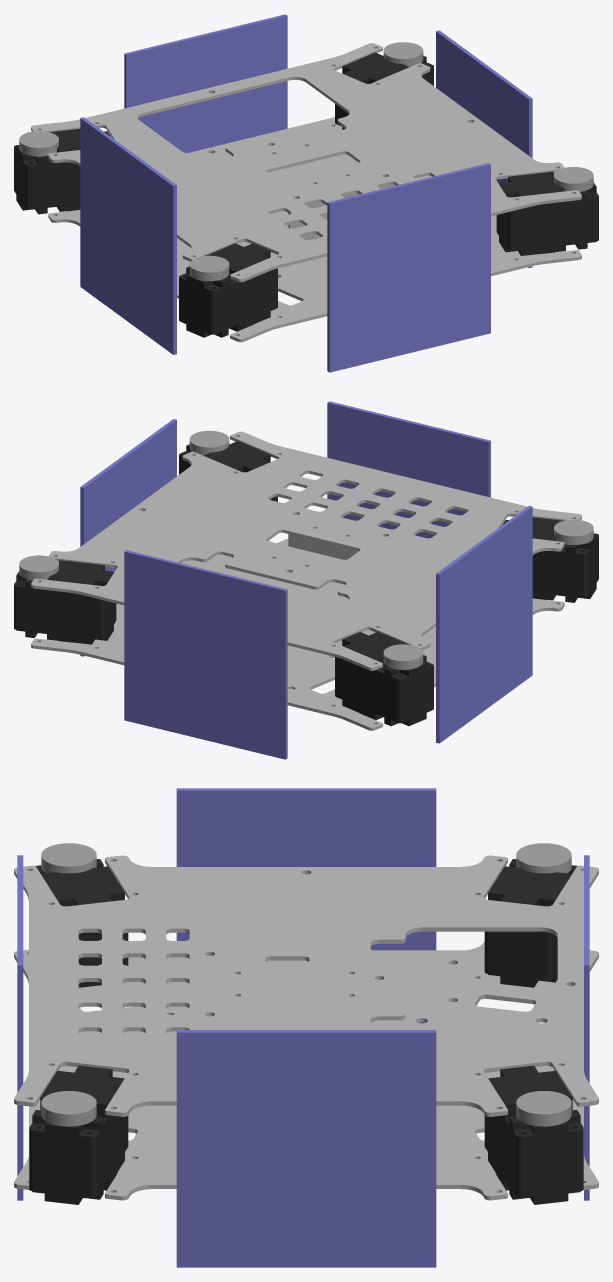
File: chassis.dae
The picture shows the model from 3 angles, top to bottom: view 1: azimuth 30°, elevation 25°; view 2: azimuth 150°, elevation 25°; view 3: azimuth 270°, elevation 25°; orthographic projection. The views are drawn at different scales.
Parts seen in each view (by area): view 1: chassis, servo_001, servo_003, servo, servo_002; view 2: chassis, servo, servo_002, servo_001, servo_003; view 3: chassis, servo_002, servo_003, servo, servo_001.
Part boxes in pixels (x1,y1,x2,y2): chassis: [31, 14, 581, 372]; servo_001: [179, 243, 277, 337]; servo_003: [496, 167, 598, 255]; servo: [14, 129, 110, 214]; servo_002: [335, 42, 433, 129]; chassis: [31, 401, 581, 759]; servo: [335, 632, 433, 726]; servo_002: [14, 555, 116, 644]; servo_001: [502, 517, 598, 602]; servo_003: [179, 430, 277, 501]; chassis: [14, 788, 598, 1267]; servo_002: [484, 1065, 583, 1204]; servo_003: [29, 1065, 128, 1204]; servo: [484, 843, 576, 987]; servo_001: [36, 843, 128, 987].
Bounding box in the file's own units: 0.2248 × 0.2003 × 0.0889.
